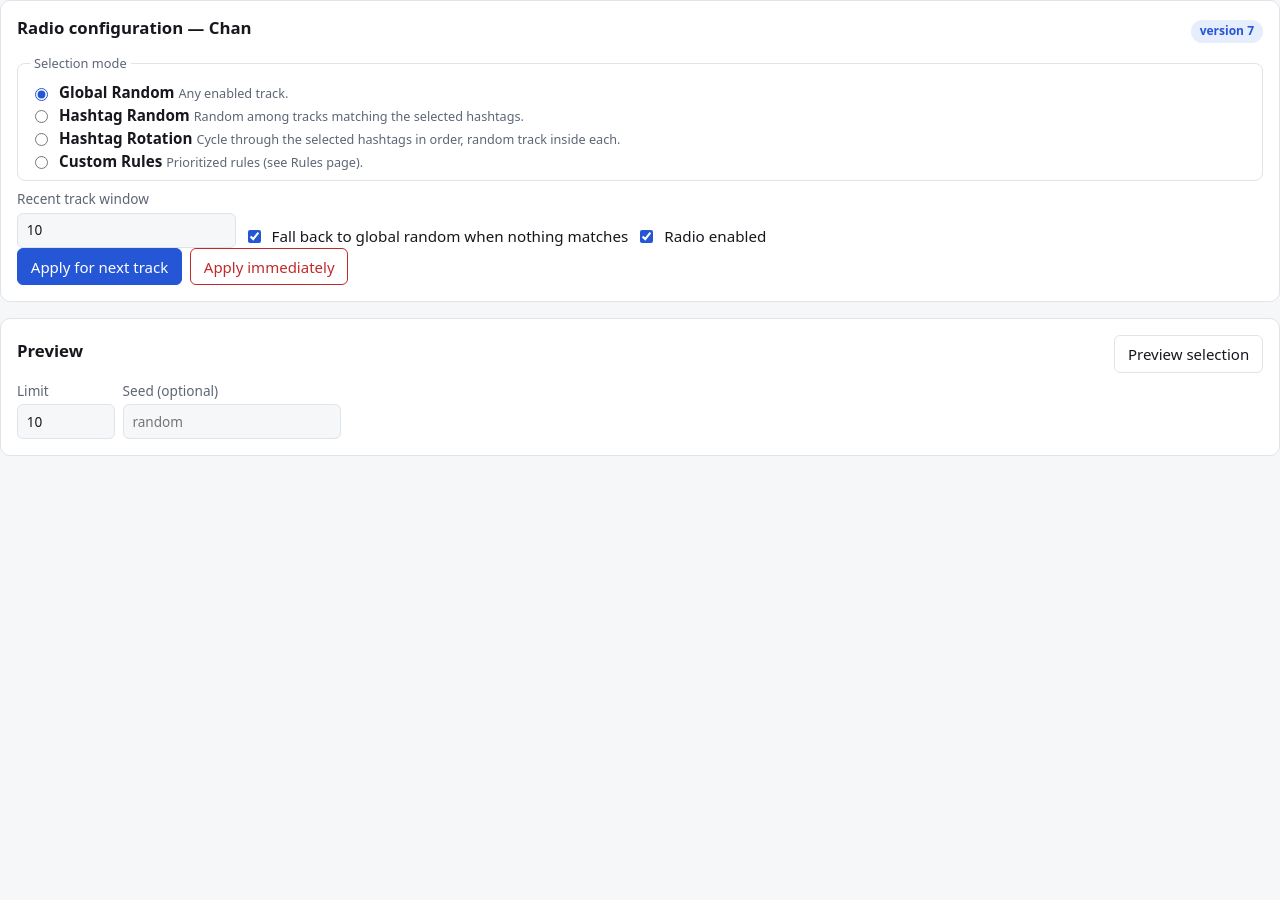
Test: <RadioConfig /> › shows hashtags for Hashtag Random and saves with the current version for the next track
Click the radio button labelled "Hashtag Random" at (42, 117), box [35,110,48,123]
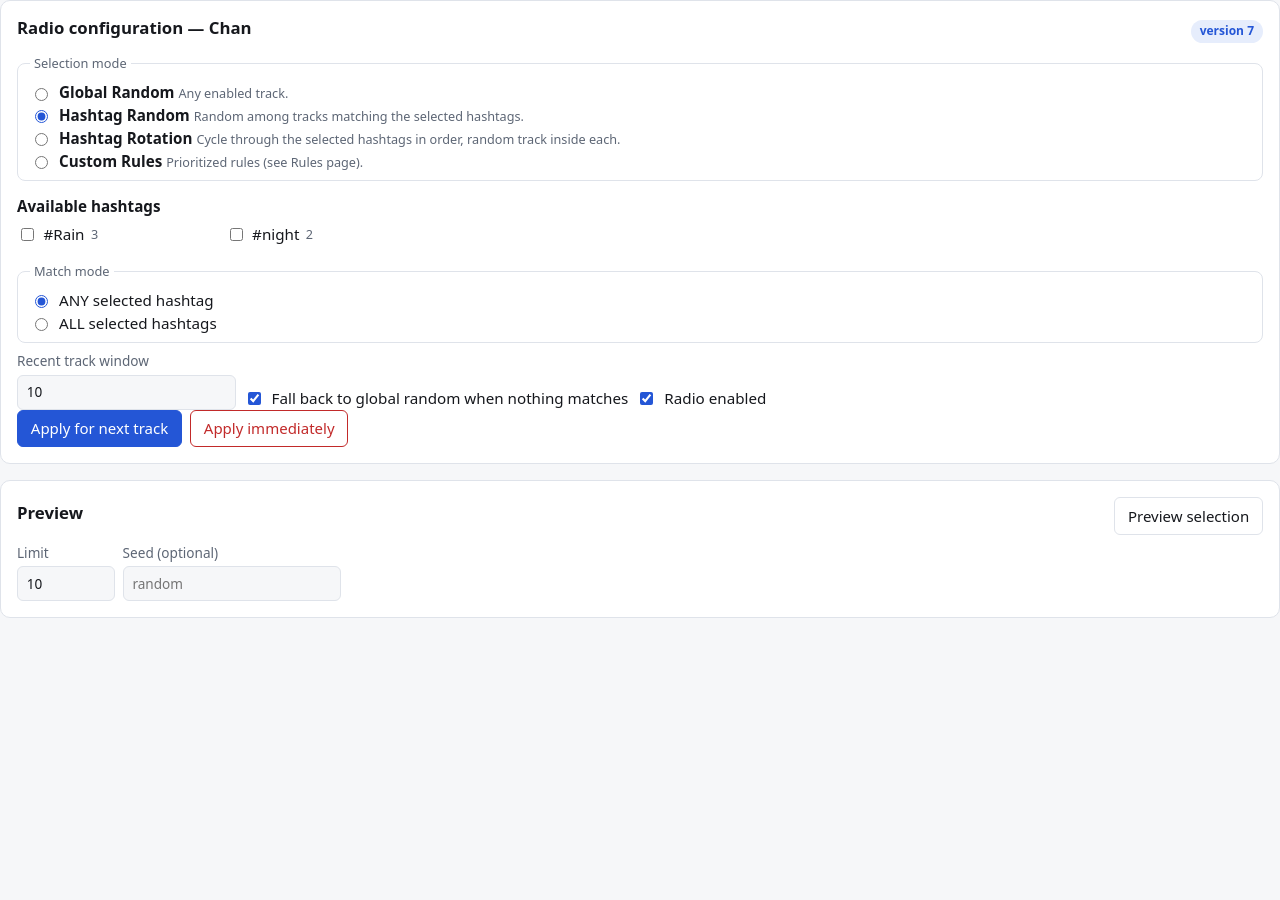
Click the checkbox labelled "#Rain 3" at (28, 234), box [21,228,34,241]
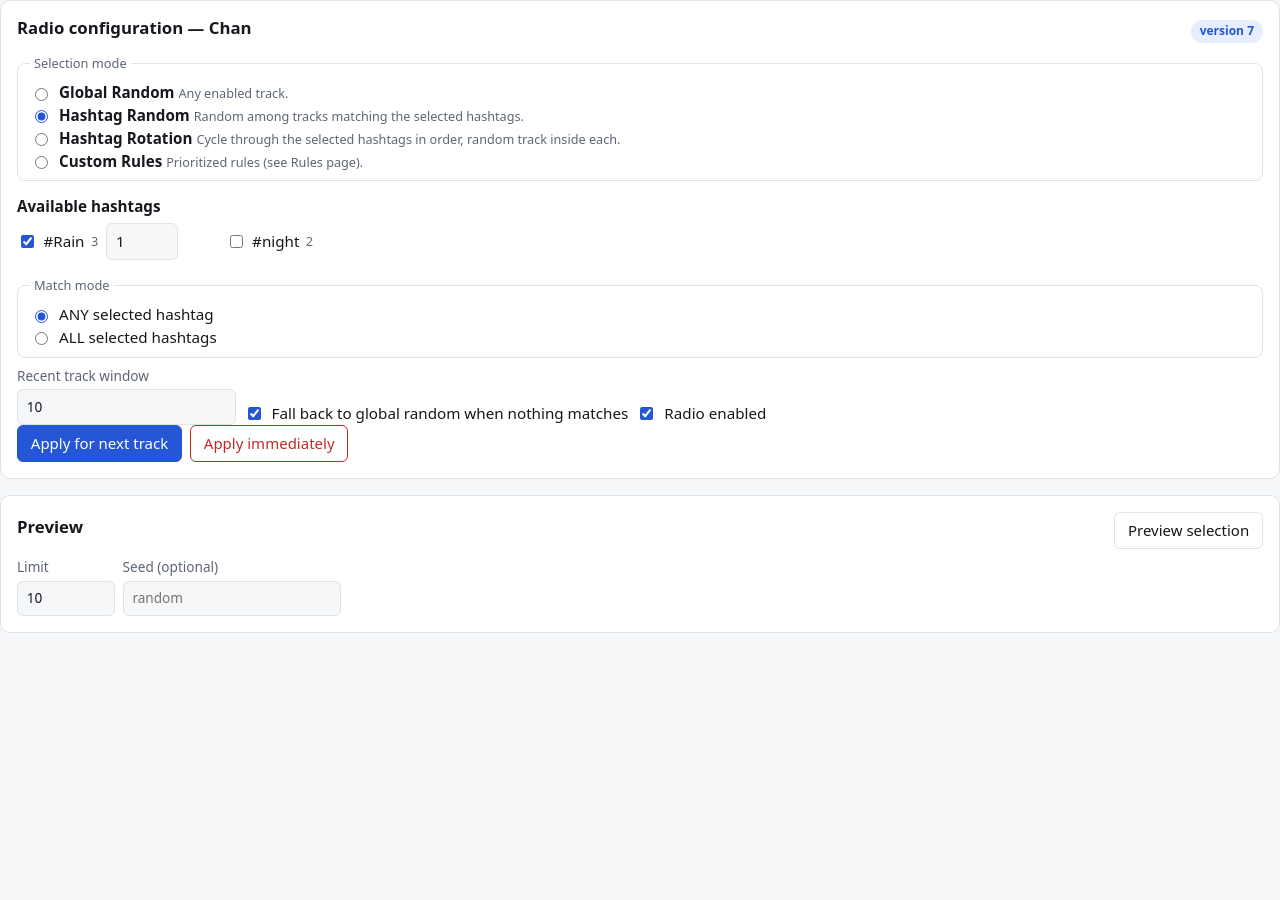
Click the radio button labelled "ALL selected hashtags" at (42, 339), box [35,332,48,345]
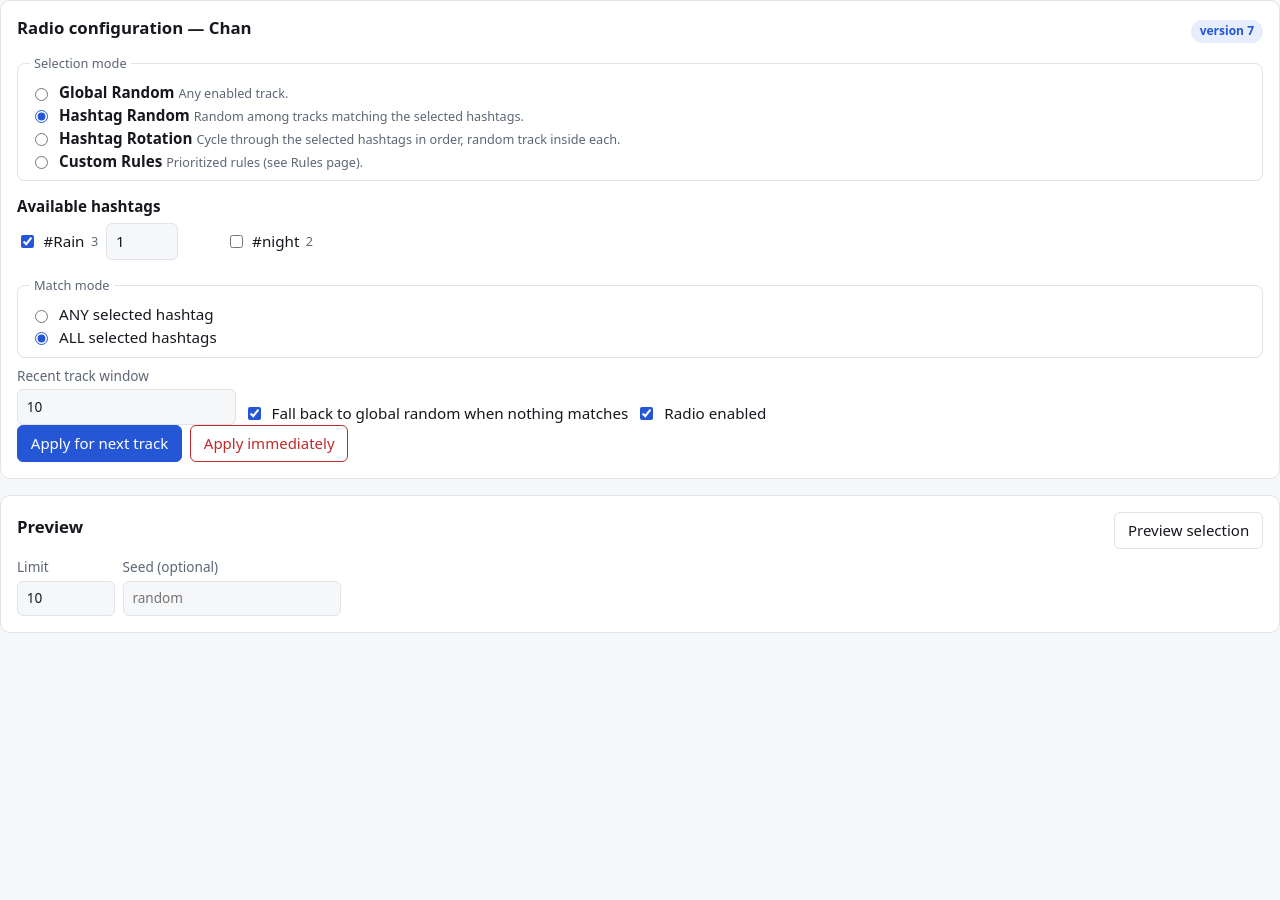
Click the button "Apply for next track" at (100, 443), box [17,425,182,462]
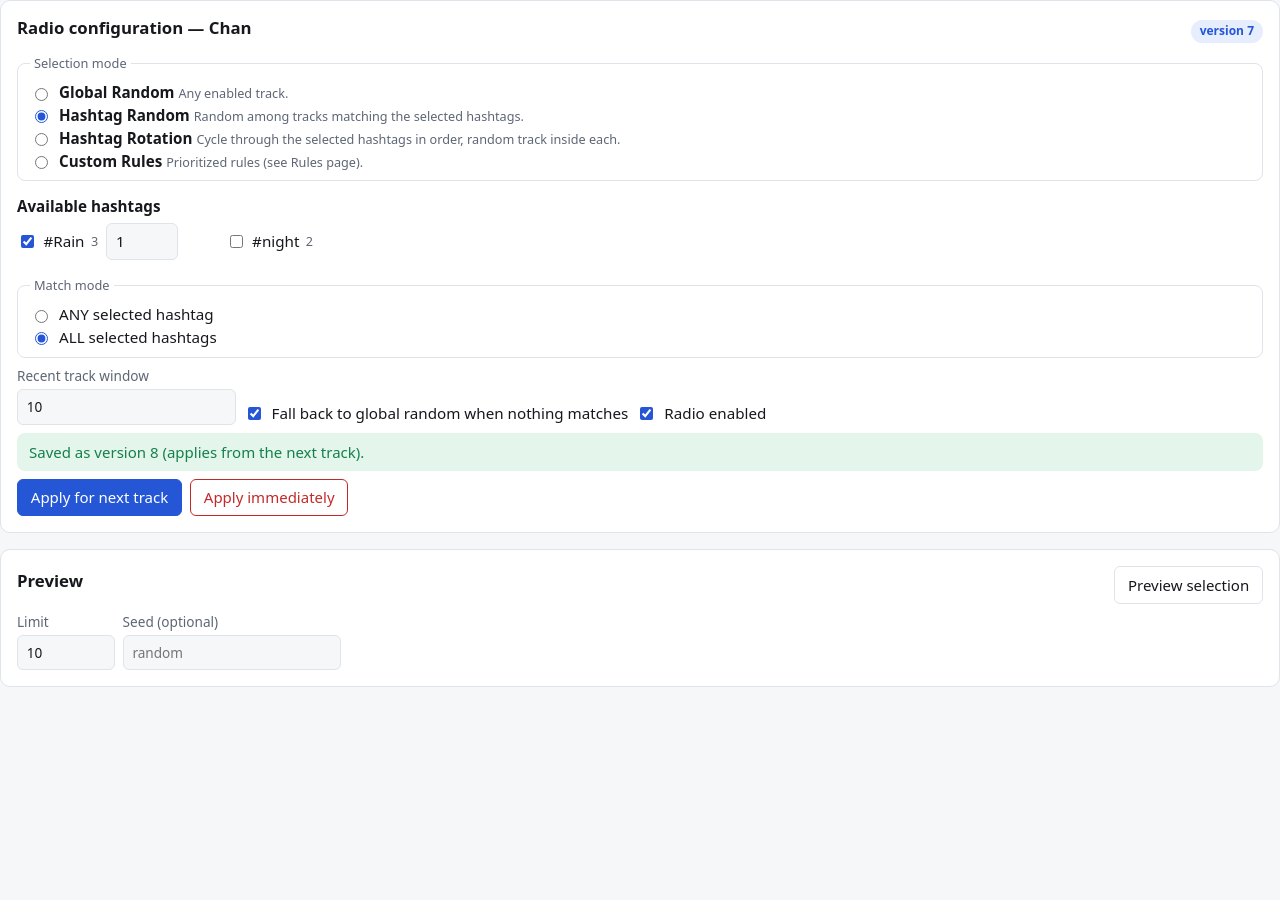
Now the text "Saved as version 8 (applies from the next track)." is shown, box [17,433,1263,471]
